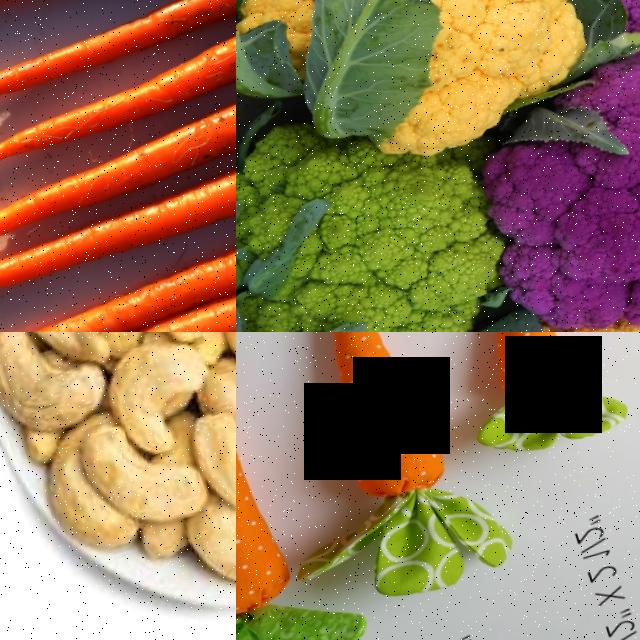carrot: (0, 75, 236, 267), (0, 10, 236, 199), (0, 158, 236, 332), (0, 128, 236, 300), (0, 0, 236, 144), (0, 239, 236, 332), (0, 0, 236, 82)
cashew: (68, 397, 201, 543), (90, 332, 209, 434), (0, 332, 99, 441), (161, 492, 236, 613), (181, 399, 236, 519)
cauliflower: (236, 75, 524, 332), (236, 0, 614, 137), (480, 30, 640, 332)
